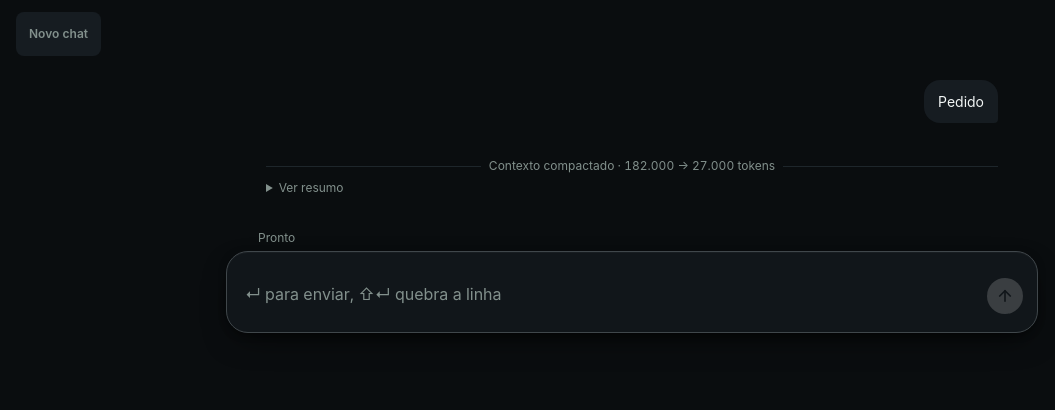
Test case: marks where the context was compacted, with the summary at hand
The image size is (1055, 410).
Expected: the text "Contexto compactado · 182.000 → 27.000 tokens" is shown, [489, 158, 775, 173]
Expected: the text "Pedido" is shown, [938, 90, 984, 113]
Click the heading "Ver resumo".
click(311, 188)  # box [279, 180, 344, 195]
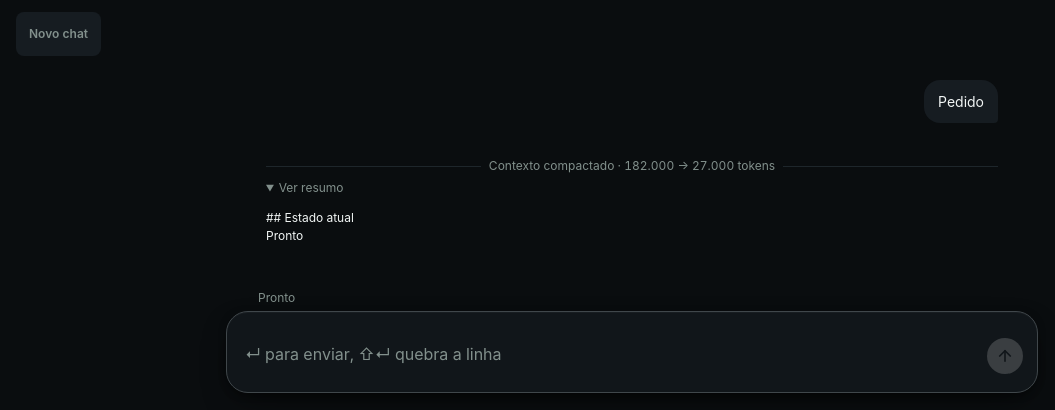
Now the text "## Estado atual Pronto" is shown, box [266, 210, 354, 243]
